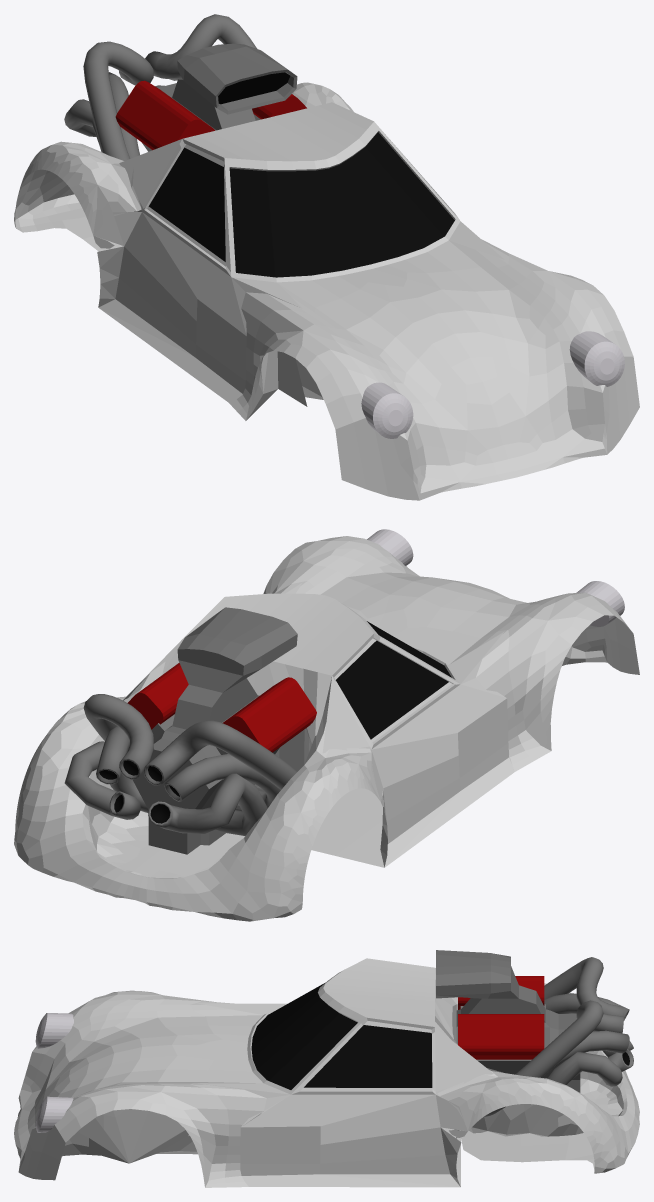
The model's file is hot_rod_356_body.obj.
3 views of the same model, one above another, from view 1: azimuth 30°, elevation 25°; view 2: azimuth 150°, elevation 25°; view 3: azimuth 270°, elevation 25° (orthographic). The views are drawn at different scales.
Parts seen in each view (by area): view 1: Cube.001; view 2: Cube.001; view 3: Cube.001.
Part boxes in pixels (x1,y1,x2,y2): Cube.001: (14, 14, 639, 500); Cube.001: (14, 529, 639, 921); Cube.001: (14, 950, 639, 1187).
Size of the model in its own units: 2.84 by 1.91 by 6.21.
